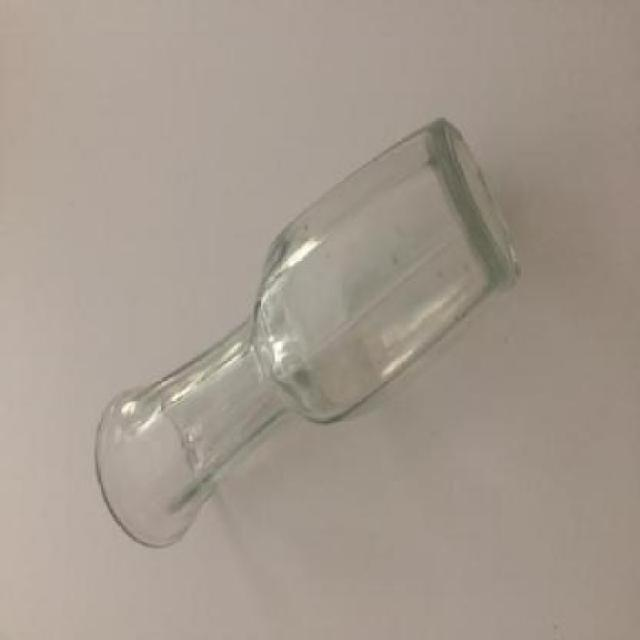kaca: (94, 114, 515, 546)
